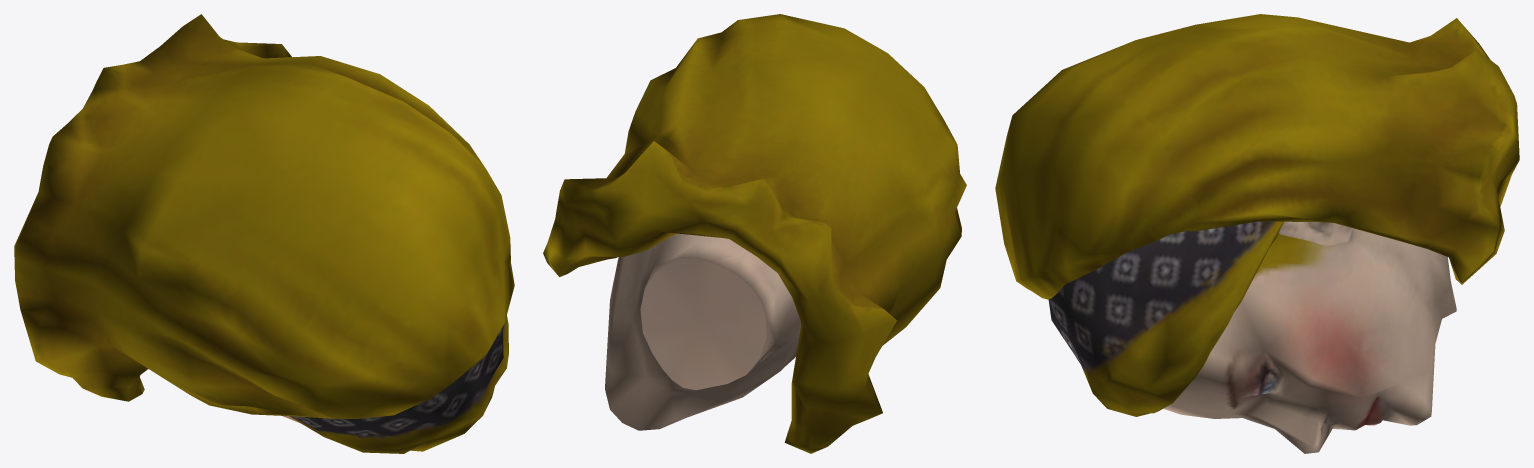
File: dest_nt_nuked_female_05_head_LOD1.obj
The picture shows the model from 3 angles, left to right: view 1: azimuth 30°, elevation 25°; view 2: azimuth 150°, elevation 25°; view 3: azimuth 270°, elevation 25°; orthographic projection. The views are drawn at different scales.
Parts seen in each view (by area): view 1: mtl_nt_2020_manne_fem01_hair2; view 2: mtl_nt_2020_manne_fem01_hair2, mtl_nt_2020_manne_fem01_head2; view 3: mtl_nt_2020_manne_fem01_hair2, mtl_nt_2020_manne_fem01_head2.
Part boxes in pixels (x1,y1,x2,y2): mtl_nt_2020_manne_fem01_hair2: [14, 14, 514, 453]; mtl_nt_2020_manne_fem01_hair2: [543, 14, 966, 453]; mtl_nt_2020_manne_fem01_head2: [605, 233, 800, 430]; mtl_nt_2020_manne_fem01_hair2: [995, 14, 1519, 416]; mtl_nt_2020_manne_fem01_head2: [1163, 221, 1456, 453].
Bounding box in the file's own units: 27.87 × 26.14 × 32.78.
